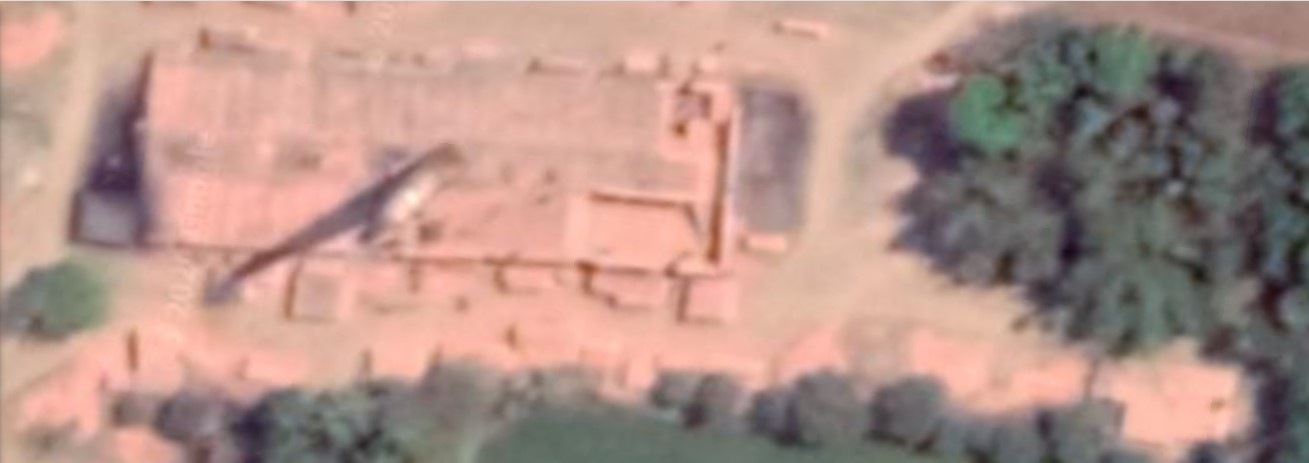kiln: (137, 23, 808, 331)
